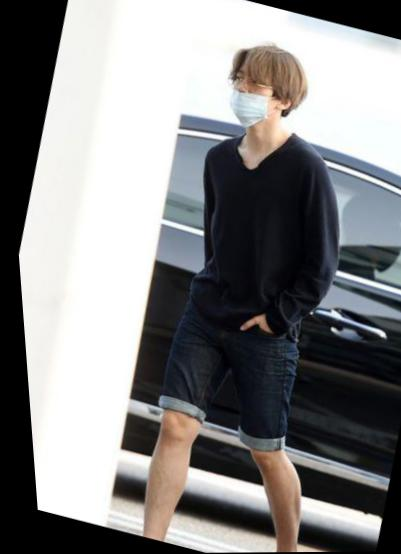WRONG: (218, 61, 288, 128)
